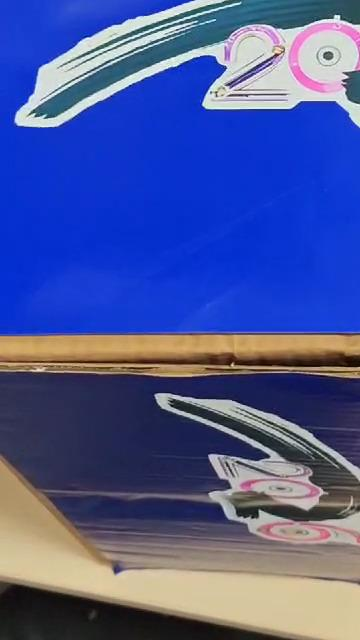B_R1: (11, 0, 360, 151)
